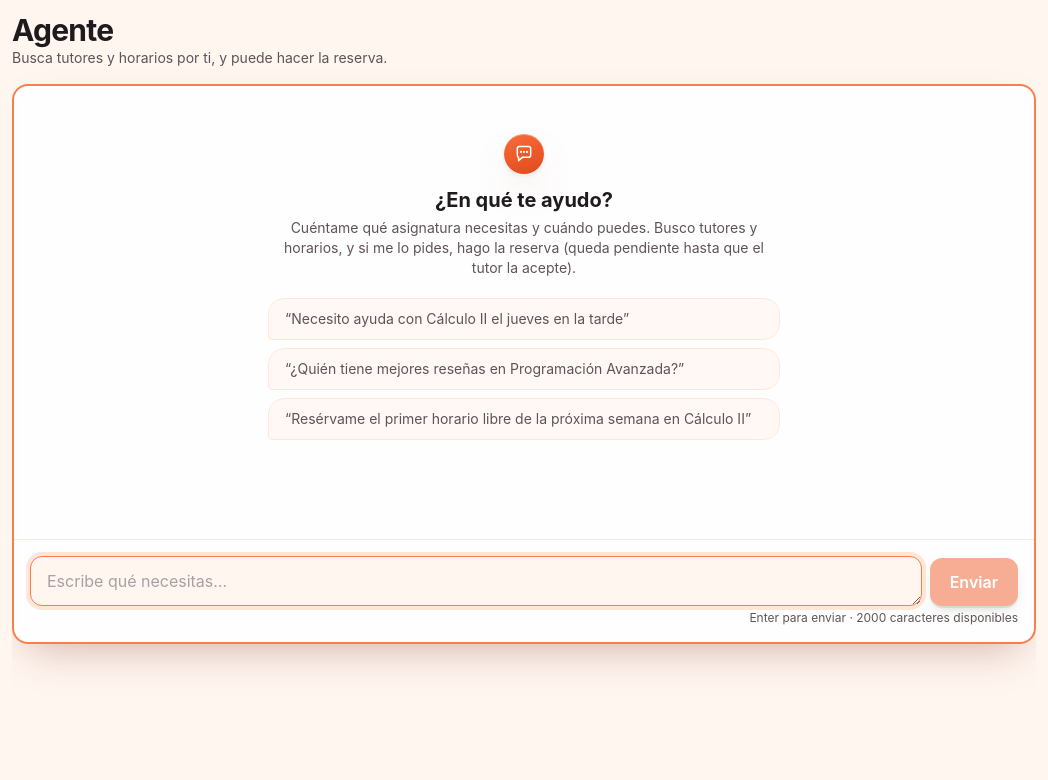
Agente › muestra el error del agente y devuelve el texto para enviarlo de nuevo (sin reintentar solo)
In the text box named "Mensaje para el agente": (476, 581) top-left (30, 556), bottom-right (922, 606), type "Hola"
Then press Enter
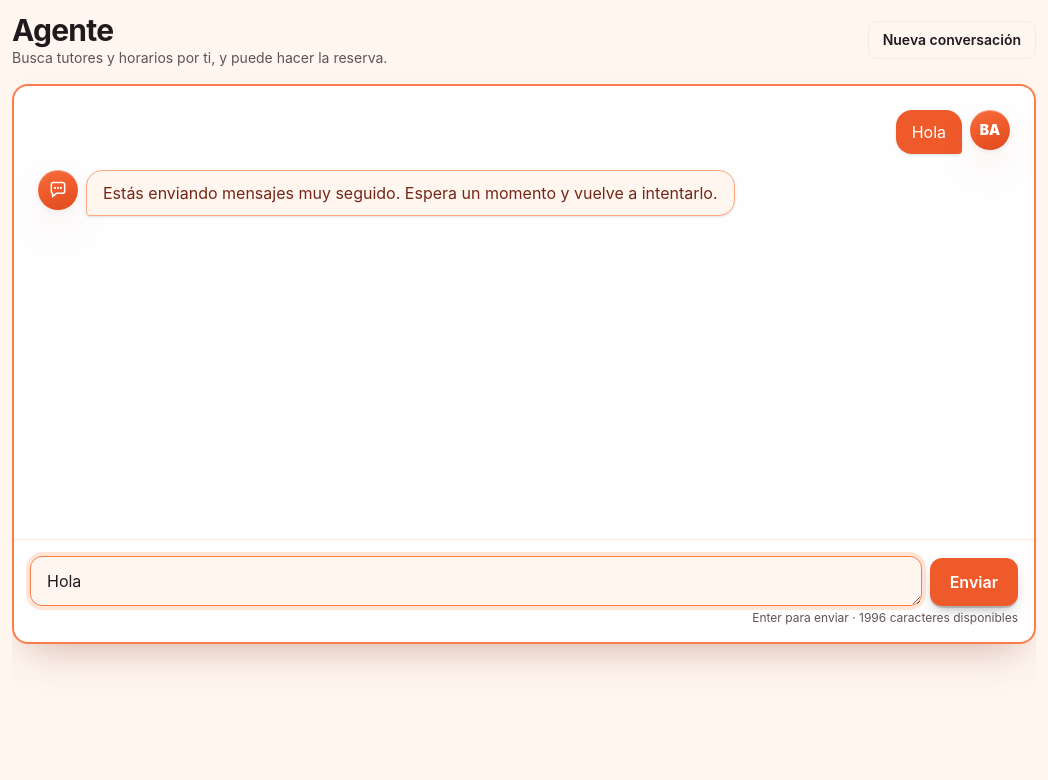
Check: the message shows "Estás enviando mensajes muy seguido", box top-left (103, 183), bottom-right (718, 203)
